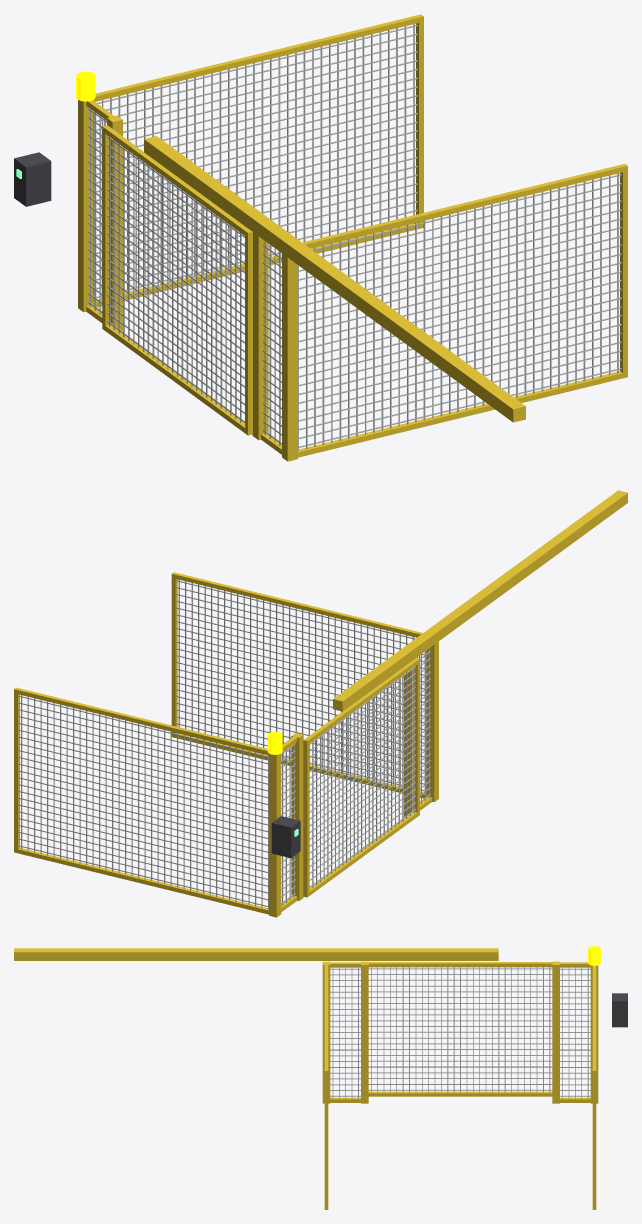
The model's file is EQ_ShaftBarrier_Gate.glb.
The picture shows the model from 3 angles, top to bottom: view 1: azimuth 30°, elevation 25°; view 2: azimuth 150°, elevation 25°; view 3: azimuth 270°, elevation 25°; orthographic projection. The views are drawn at different scales.
Visible parts, largest first — view 1: SK_Shaft_Barrier, SK_Shaft_Gate; view 2: SK_Shaft_Barrier, SK_Shaft_Gate; view 3: SK_Shaft_Barrier, SK_Shaft_Gate.
Part boxes in pixels (x1,y1,x2,y2): SK_Shaft_Barrier: [14, 14, 627, 461]; SK_Shaft_Gate: [102, 125, 252, 435]; SK_Shaft_Barrier: [14, 490, 627, 917]; SK_Shaft_Gate: [303, 658, 419, 897]; SK_Shaft_Barrier: [14, 946, 627, 1209]; SK_Shaft_Gate: [368, 962, 552, 1096].
Bounding box in the file's own units: 4.57 × 2.65 × 9.62.
